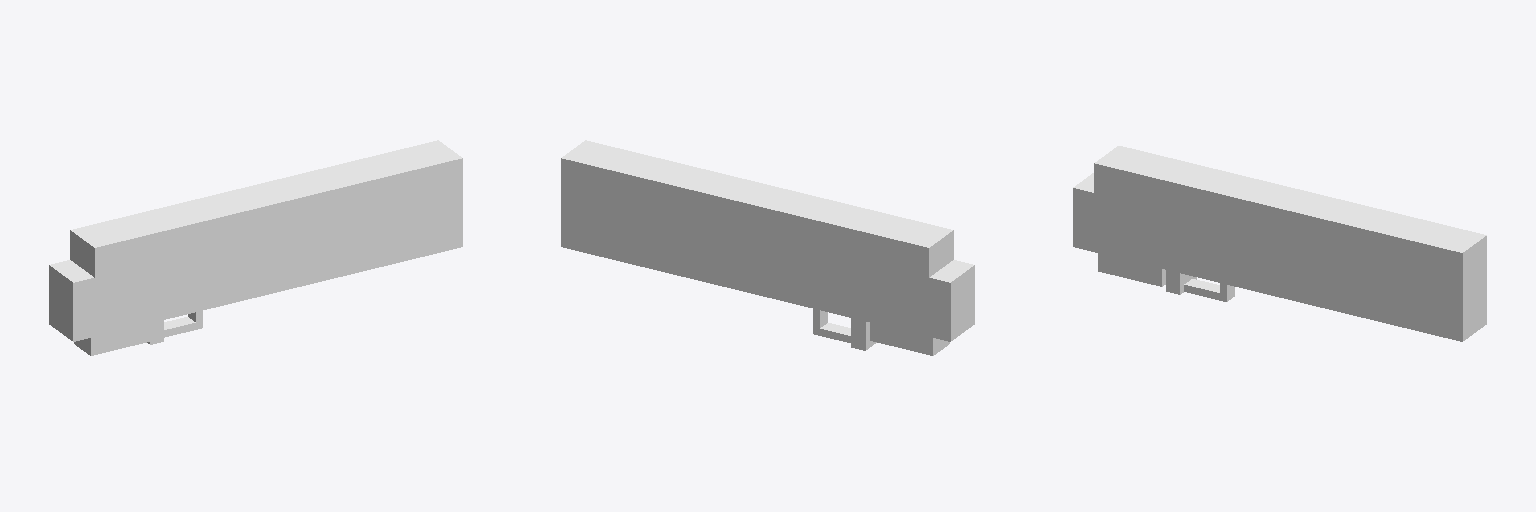
File: Gun1-11 1.obj
3 views of the same model, side by side, from view 1: azimuth 30°, elevation 25°; view 2: azimuth 150°, elevation 25°; view 3: azimuth 330°, elevation 25° (orthographic).
Parts seen in each view (by area): view 1: object 1; view 2: object 1; view 3: object 1.
Boxes of the visible parts, x1,y1,x2,y2 form: object 1: [49, 140, 462, 355]; object 1: [561, 140, 974, 355]; object 1: [1073, 146, 1486, 341].
Bounding box in the file's own units: 5.5 × 1.6 × 0.6.